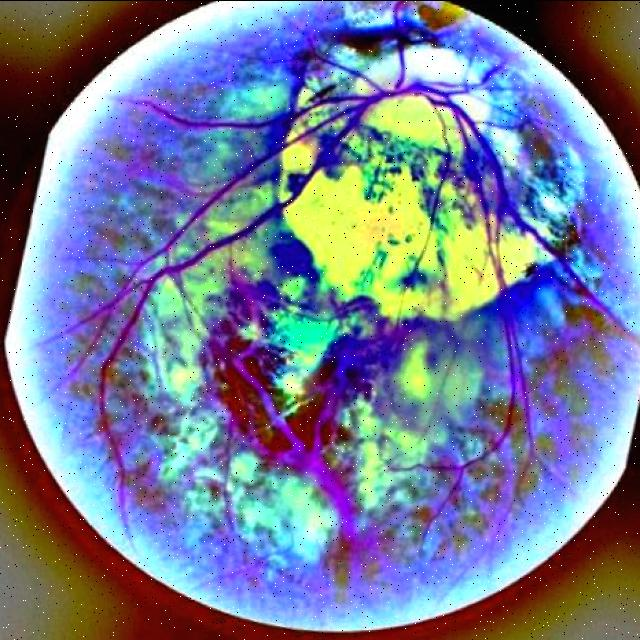Macula: (221, 370, 341, 463)
Nerves: (125, 90, 386, 249), (378, 82, 518, 359)
Optic Disk: (281, 46, 553, 276)
